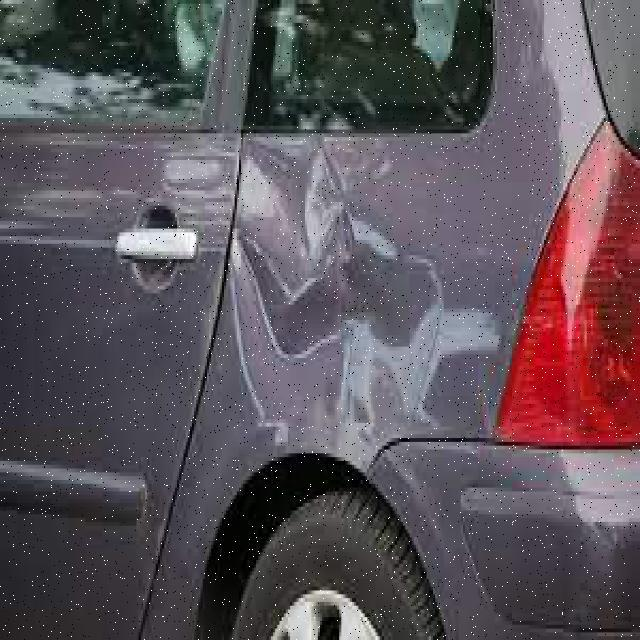quaterpanel-dent: (237, 134, 503, 553)
